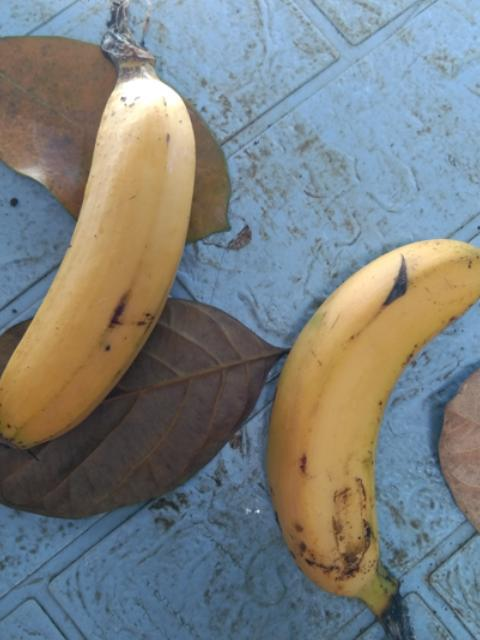freshripe: (0, 62, 211, 449)
ripe: (245, 209, 479, 615)
